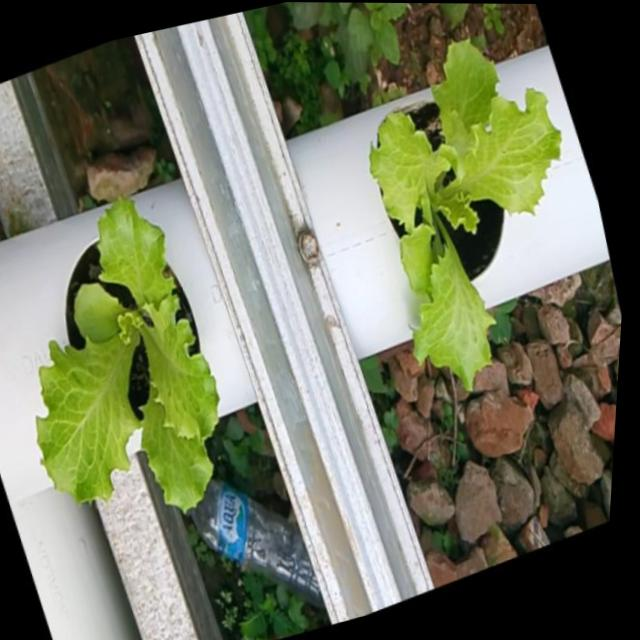Baby: (372, 23, 566, 379), (36, 181, 222, 505)
